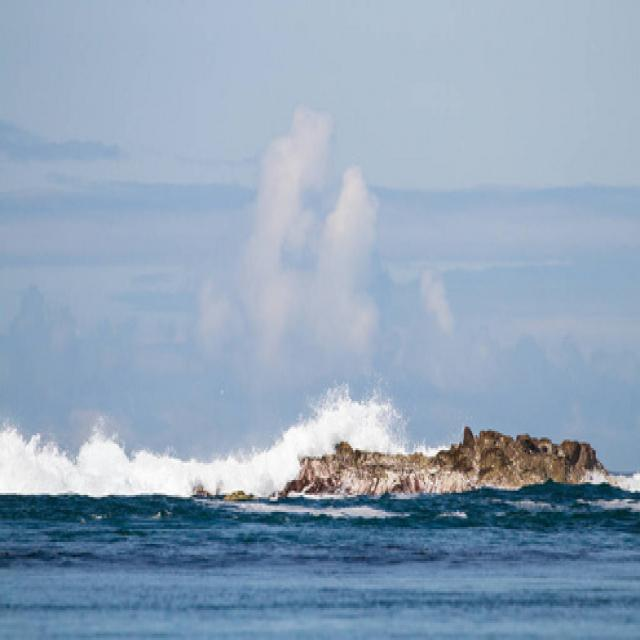reef: (296, 396, 588, 511)
